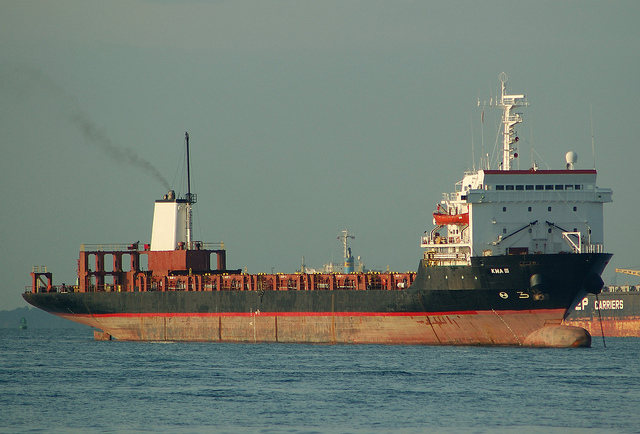container_ship: (29, 95, 614, 345)
